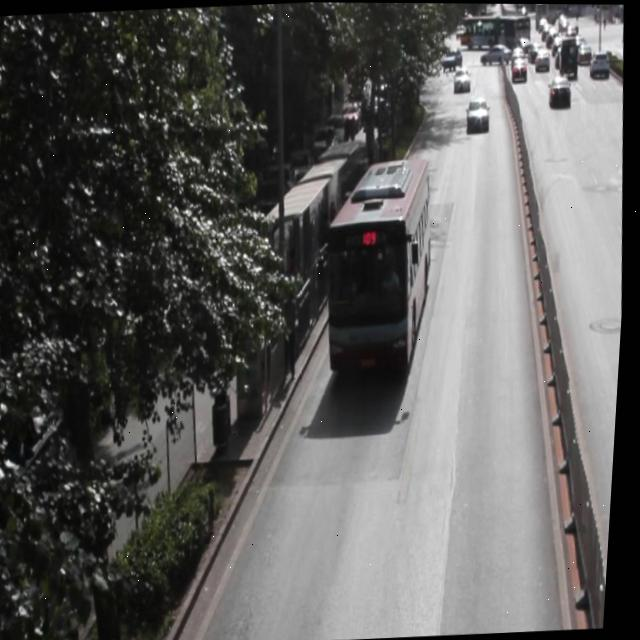car: (465, 95, 490, 128)
van: (320, 156, 442, 373)
